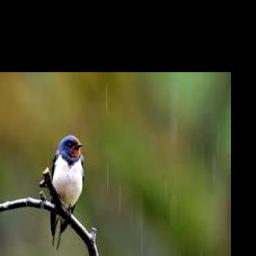Swallow: (50, 135, 85, 250)
